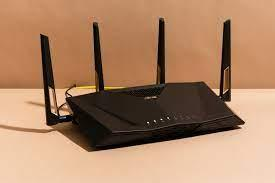Router: (66, 18, 245, 148), (41, 34, 68, 126)
